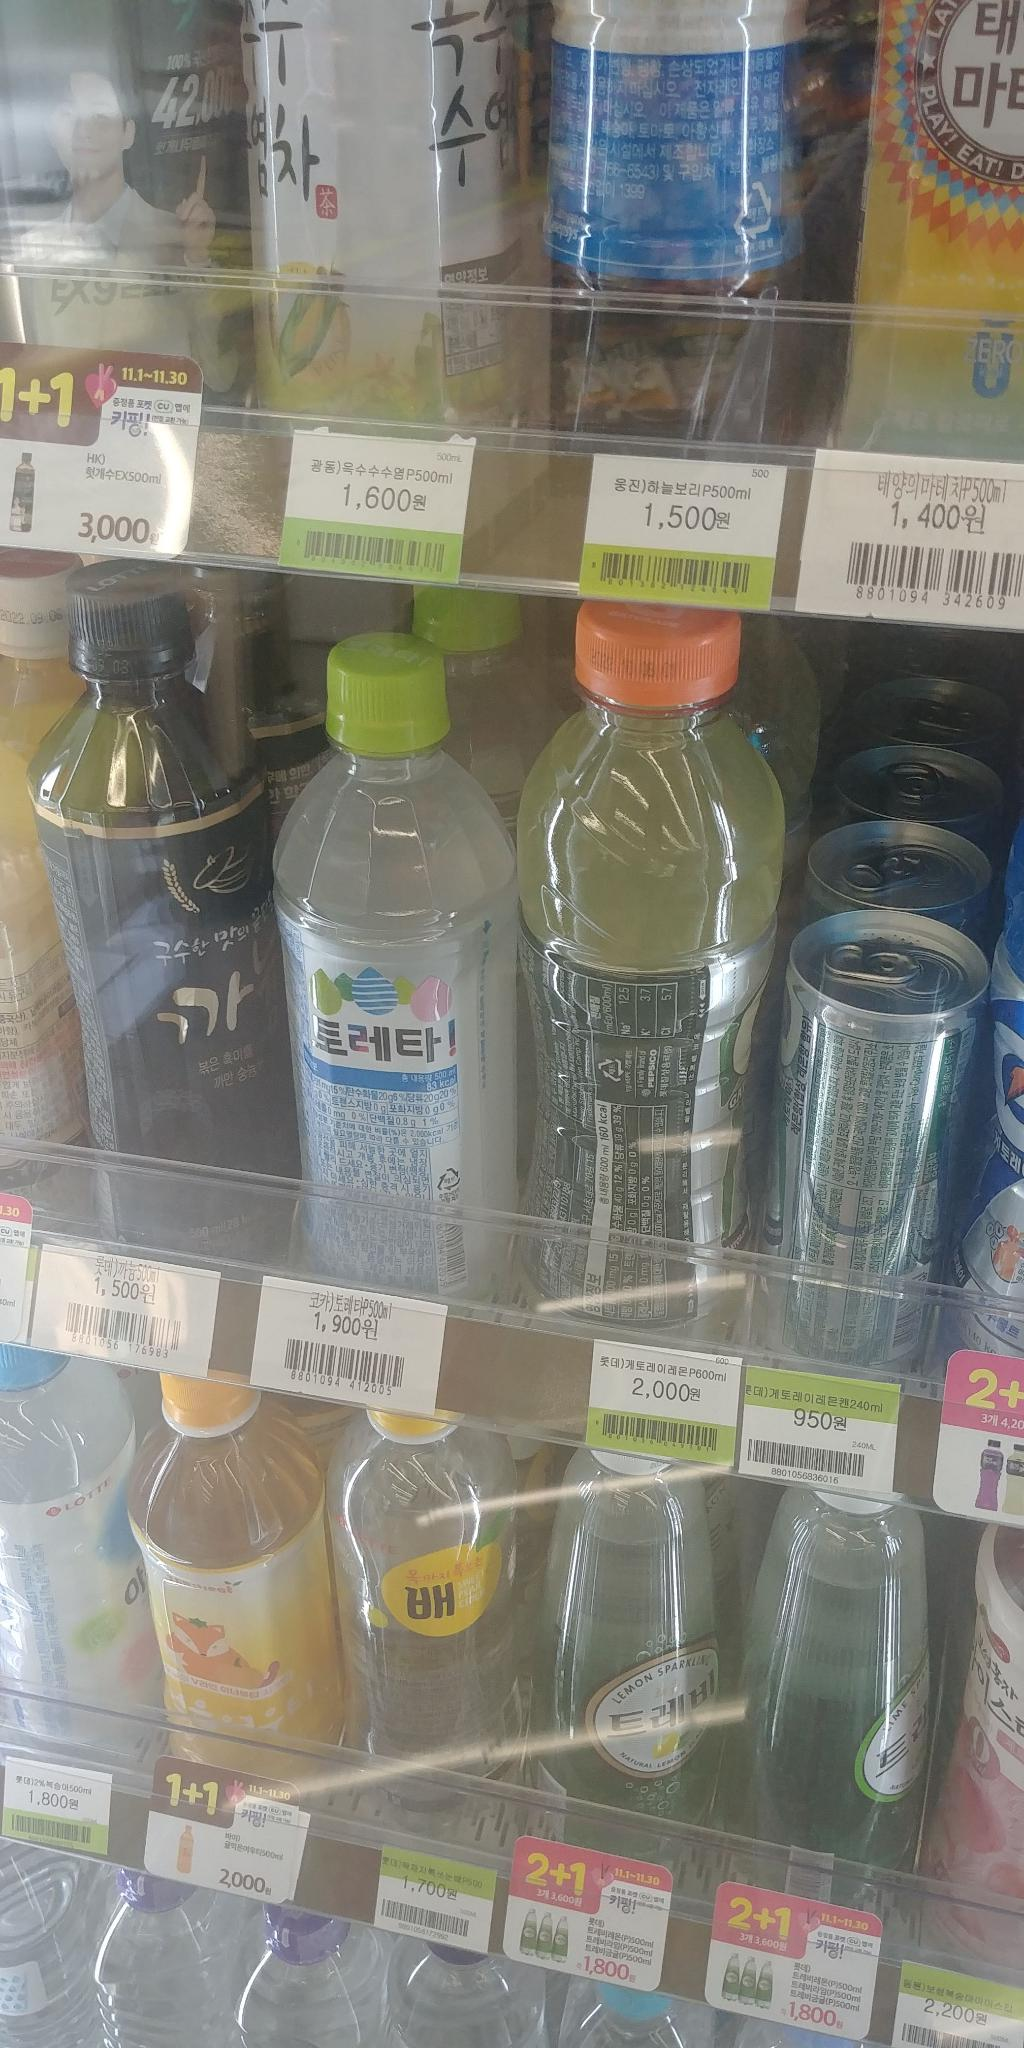gatorade_lemon: (513, 573, 777, 1375)
toreta: (255, 605, 542, 1323)
